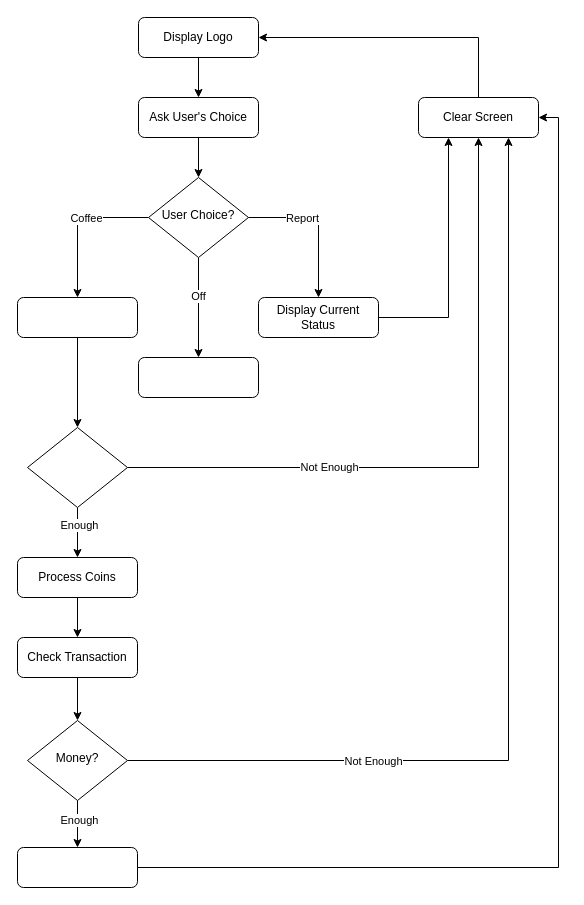
Image size: 584x905. Some labels were removed from this diagram. The box of each missing label's shape, as (x1, y1, x2, y2) in pixels:
Check Resources: (16, 296, 138, 338)
Exit: (138, 356, 258, 398)
Make Coffee: (16, 846, 138, 888)
Resources ?: (26, 426, 128, 508)
